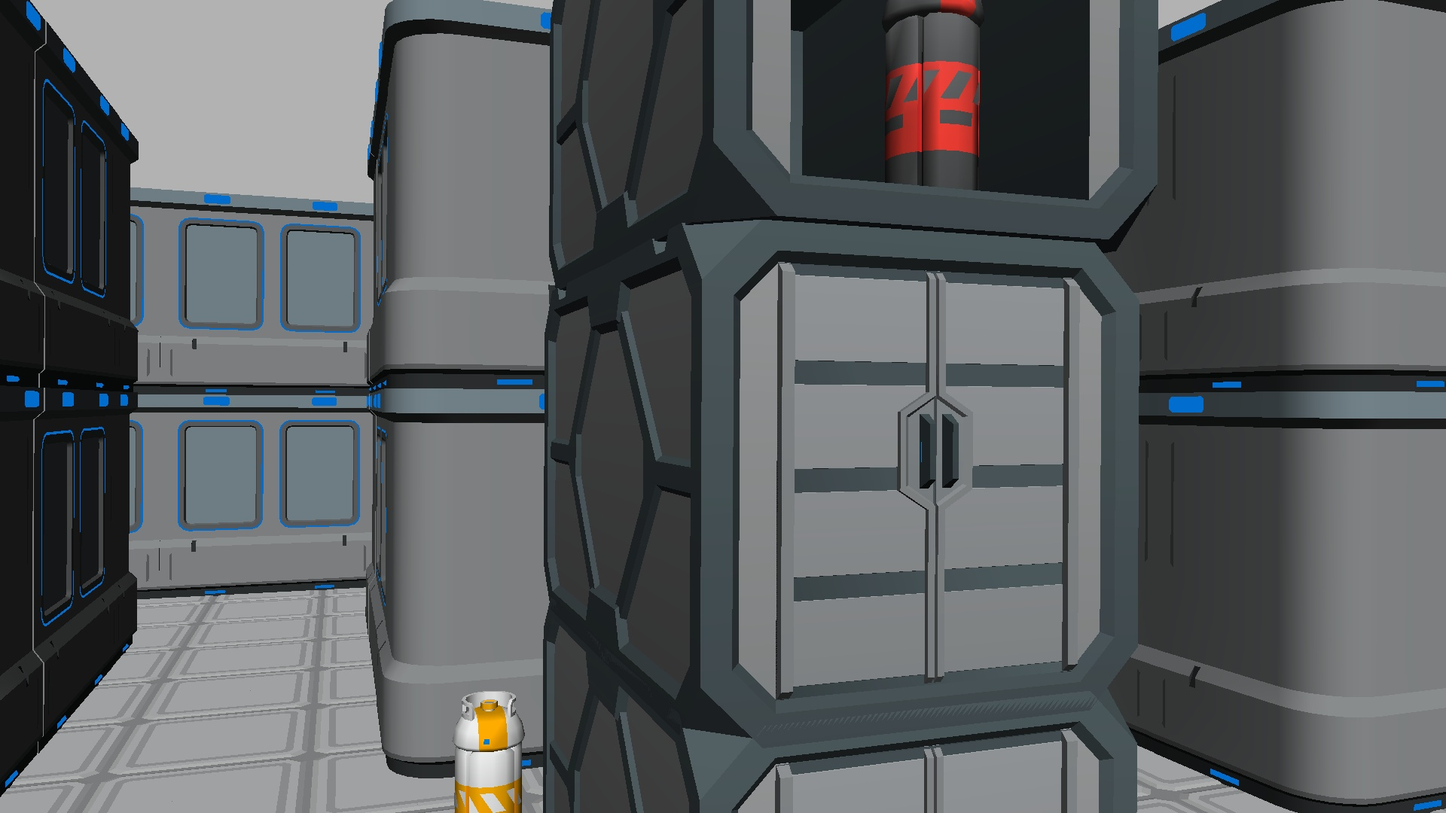red barrel: (881, 0, 984, 192)
yellow barrel: (453, 691, 525, 813)
